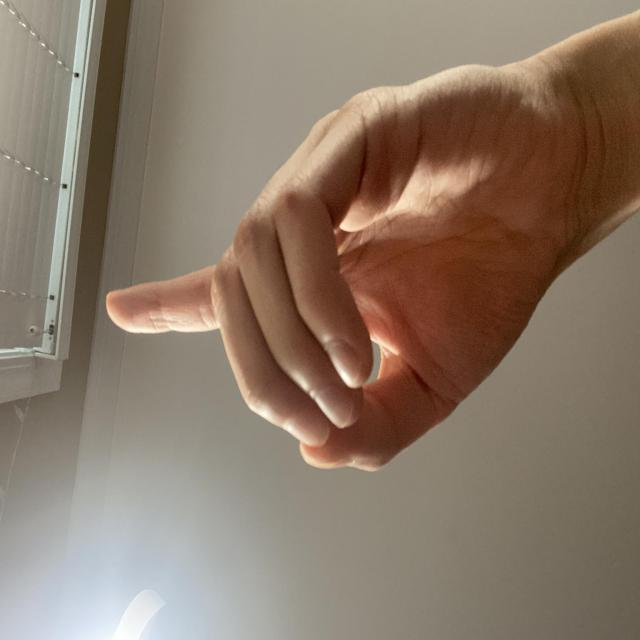D: (117, 130, 449, 640)
